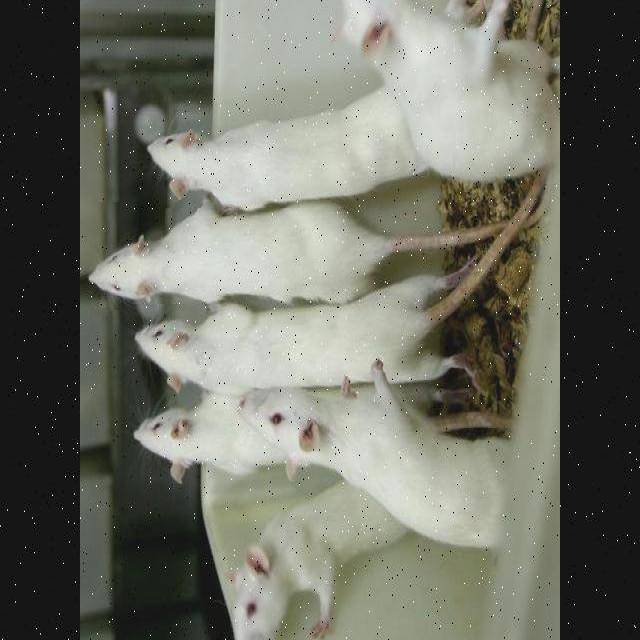rat: (237, 361, 515, 549), (89, 204, 539, 307), (135, 260, 482, 390), (338, 2, 561, 182), (148, 88, 438, 213), (231, 477, 410, 640), (131, 393, 299, 483)
